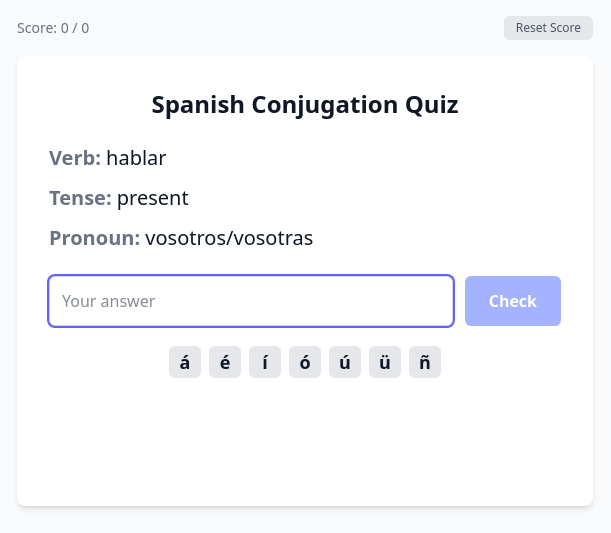
Test: Index route › checks an incorrect answer
Check: the text "Verb:" is shown, box x1=49 y1=144 x2=101 y2=171
Type "wrong answer" into the field with placeholder "Your answer" at (251, 301), box x1=49 y1=276 x2=453 y2=326
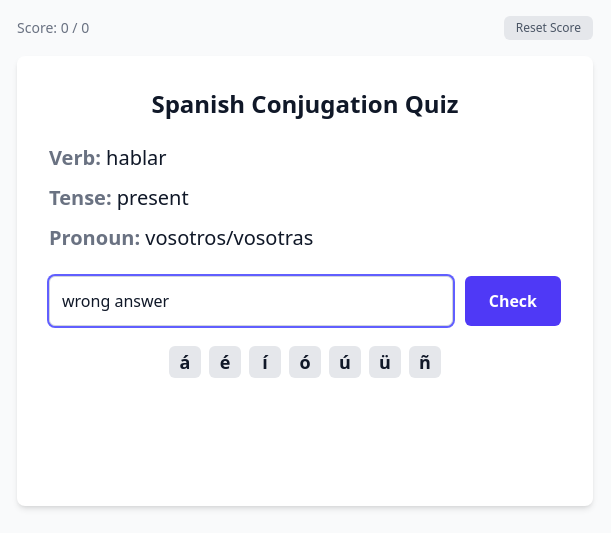
Click the button "Check" at (513, 301), box x1=465 y1=276 x2=561 y2=326
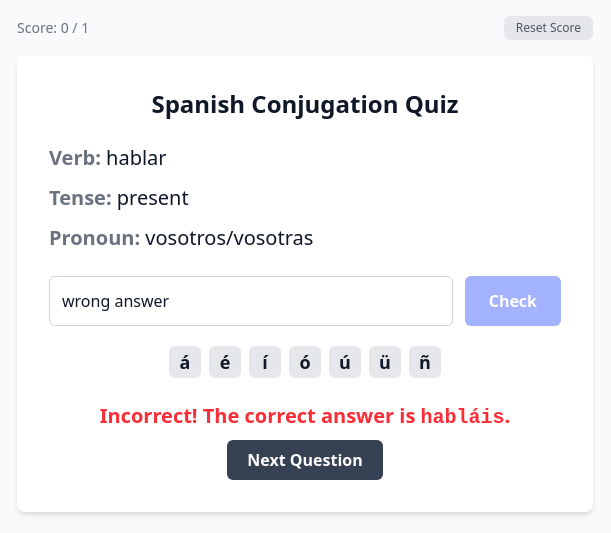
Check: the text "Incorrect! The correct answer is habláis." is shown, box x1=100 y1=402 x2=510 y2=429
Check: the text "Score: 0 / 1" is shown, box x1=17 y1=18 x2=89 y2=38
